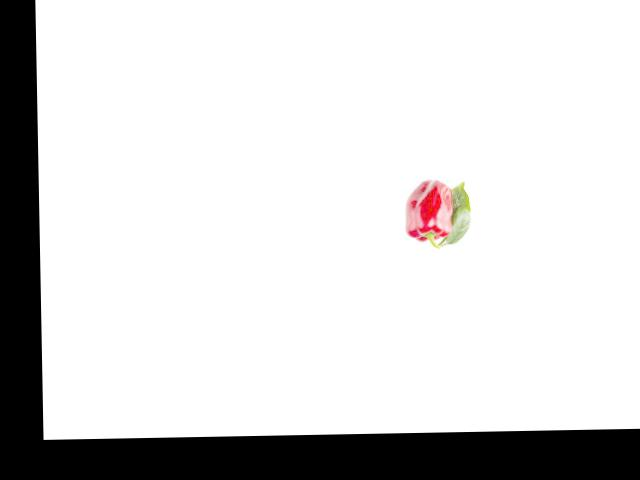bell_pepper: (398, 177, 457, 248)
